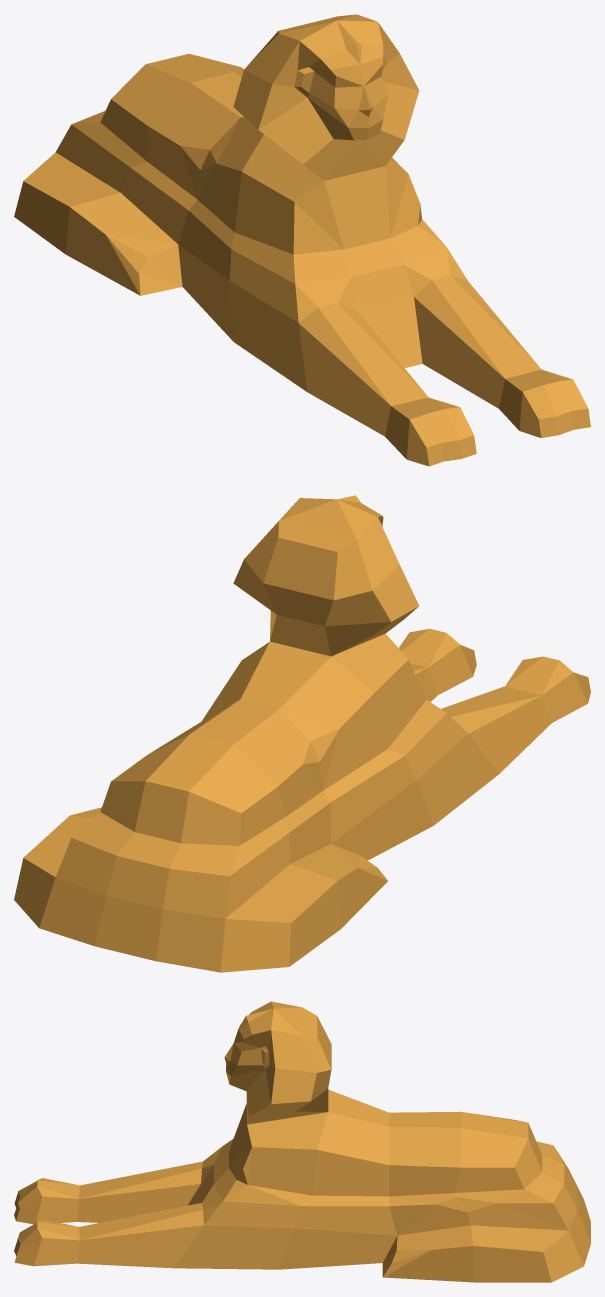
The model's file is sphinx.fbx.
3 renders of one model, top to bottom at view 1: azimuth 30°, elevation 25°; view 2: azimuth 150°, elevation 25°; view 3: azimuth 270°, elevation 25°, orthographic. The views are drawn at different scales.
Visible parts, largest first — view 1: sphinx; view 2: sphinx; view 3: sphinx.
Part boxes in pixels (x1,y1,x2,y2): sphinx: (14,14,590,466); sphinx: (14,495,590,972); sphinx: (14,1001,590,1282).
Size of the model in its own units: 25 by 26.01 by 60.57.
